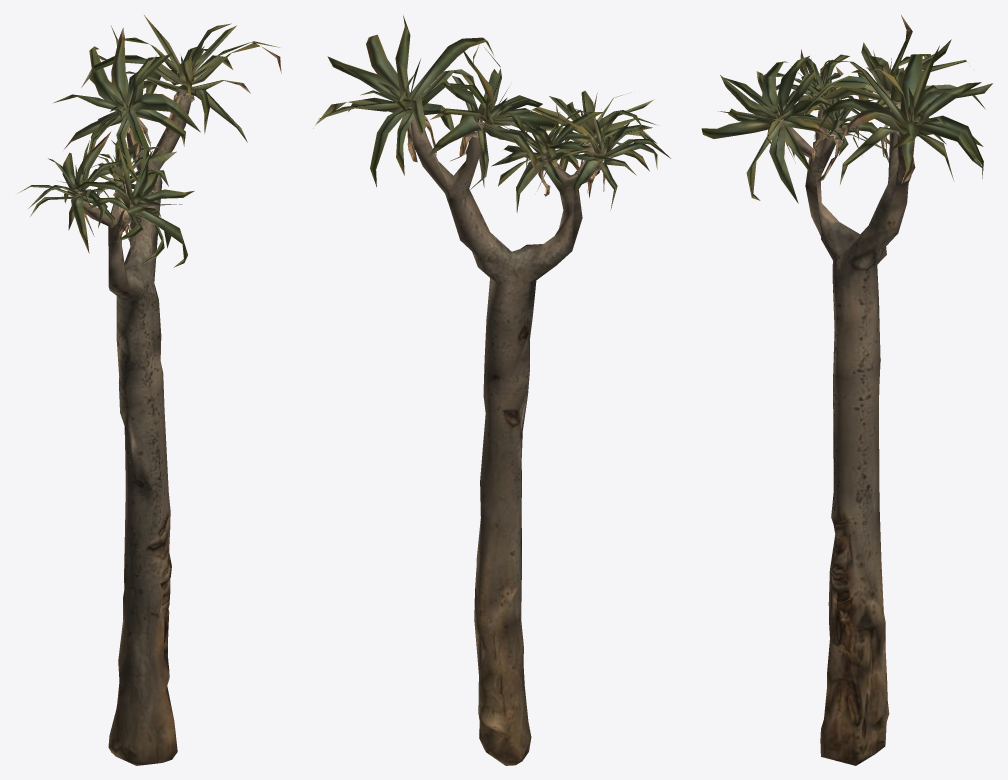
File: quiver_tree_01_c.glb
The picture shows the model from 3 angles, left to right: view 1: azimuth 30°, elevation 25°; view 2: azimuth 150°, elevation 25°; view 3: azimuth 270°, elevation 25°; orthographic projection. The views are drawn at different scales.
Visible parts, largest first — view 1: quiver_tree_01 (×2); view 2: quiver_tree_01 (×2); view 3: quiver_tree_01 (×2).
Boxes of the visible parts, bbox=[...] form: quiver_tree_01 (×2): bbox=[17, 15, 281, 765]; quiver_tree_01 (×2): bbox=[313, 15, 670, 765]; quiver_tree_01 (×2): bbox=[701, 15, 992, 765].
Bounding box in the file's own units: 1.18 × 2.72 × 0.9623.
2 materials, 2 textured.
